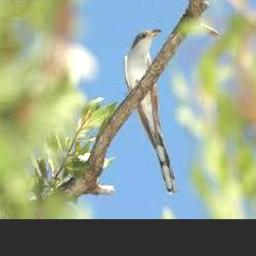Cuckoo: (124, 29, 176, 194)
